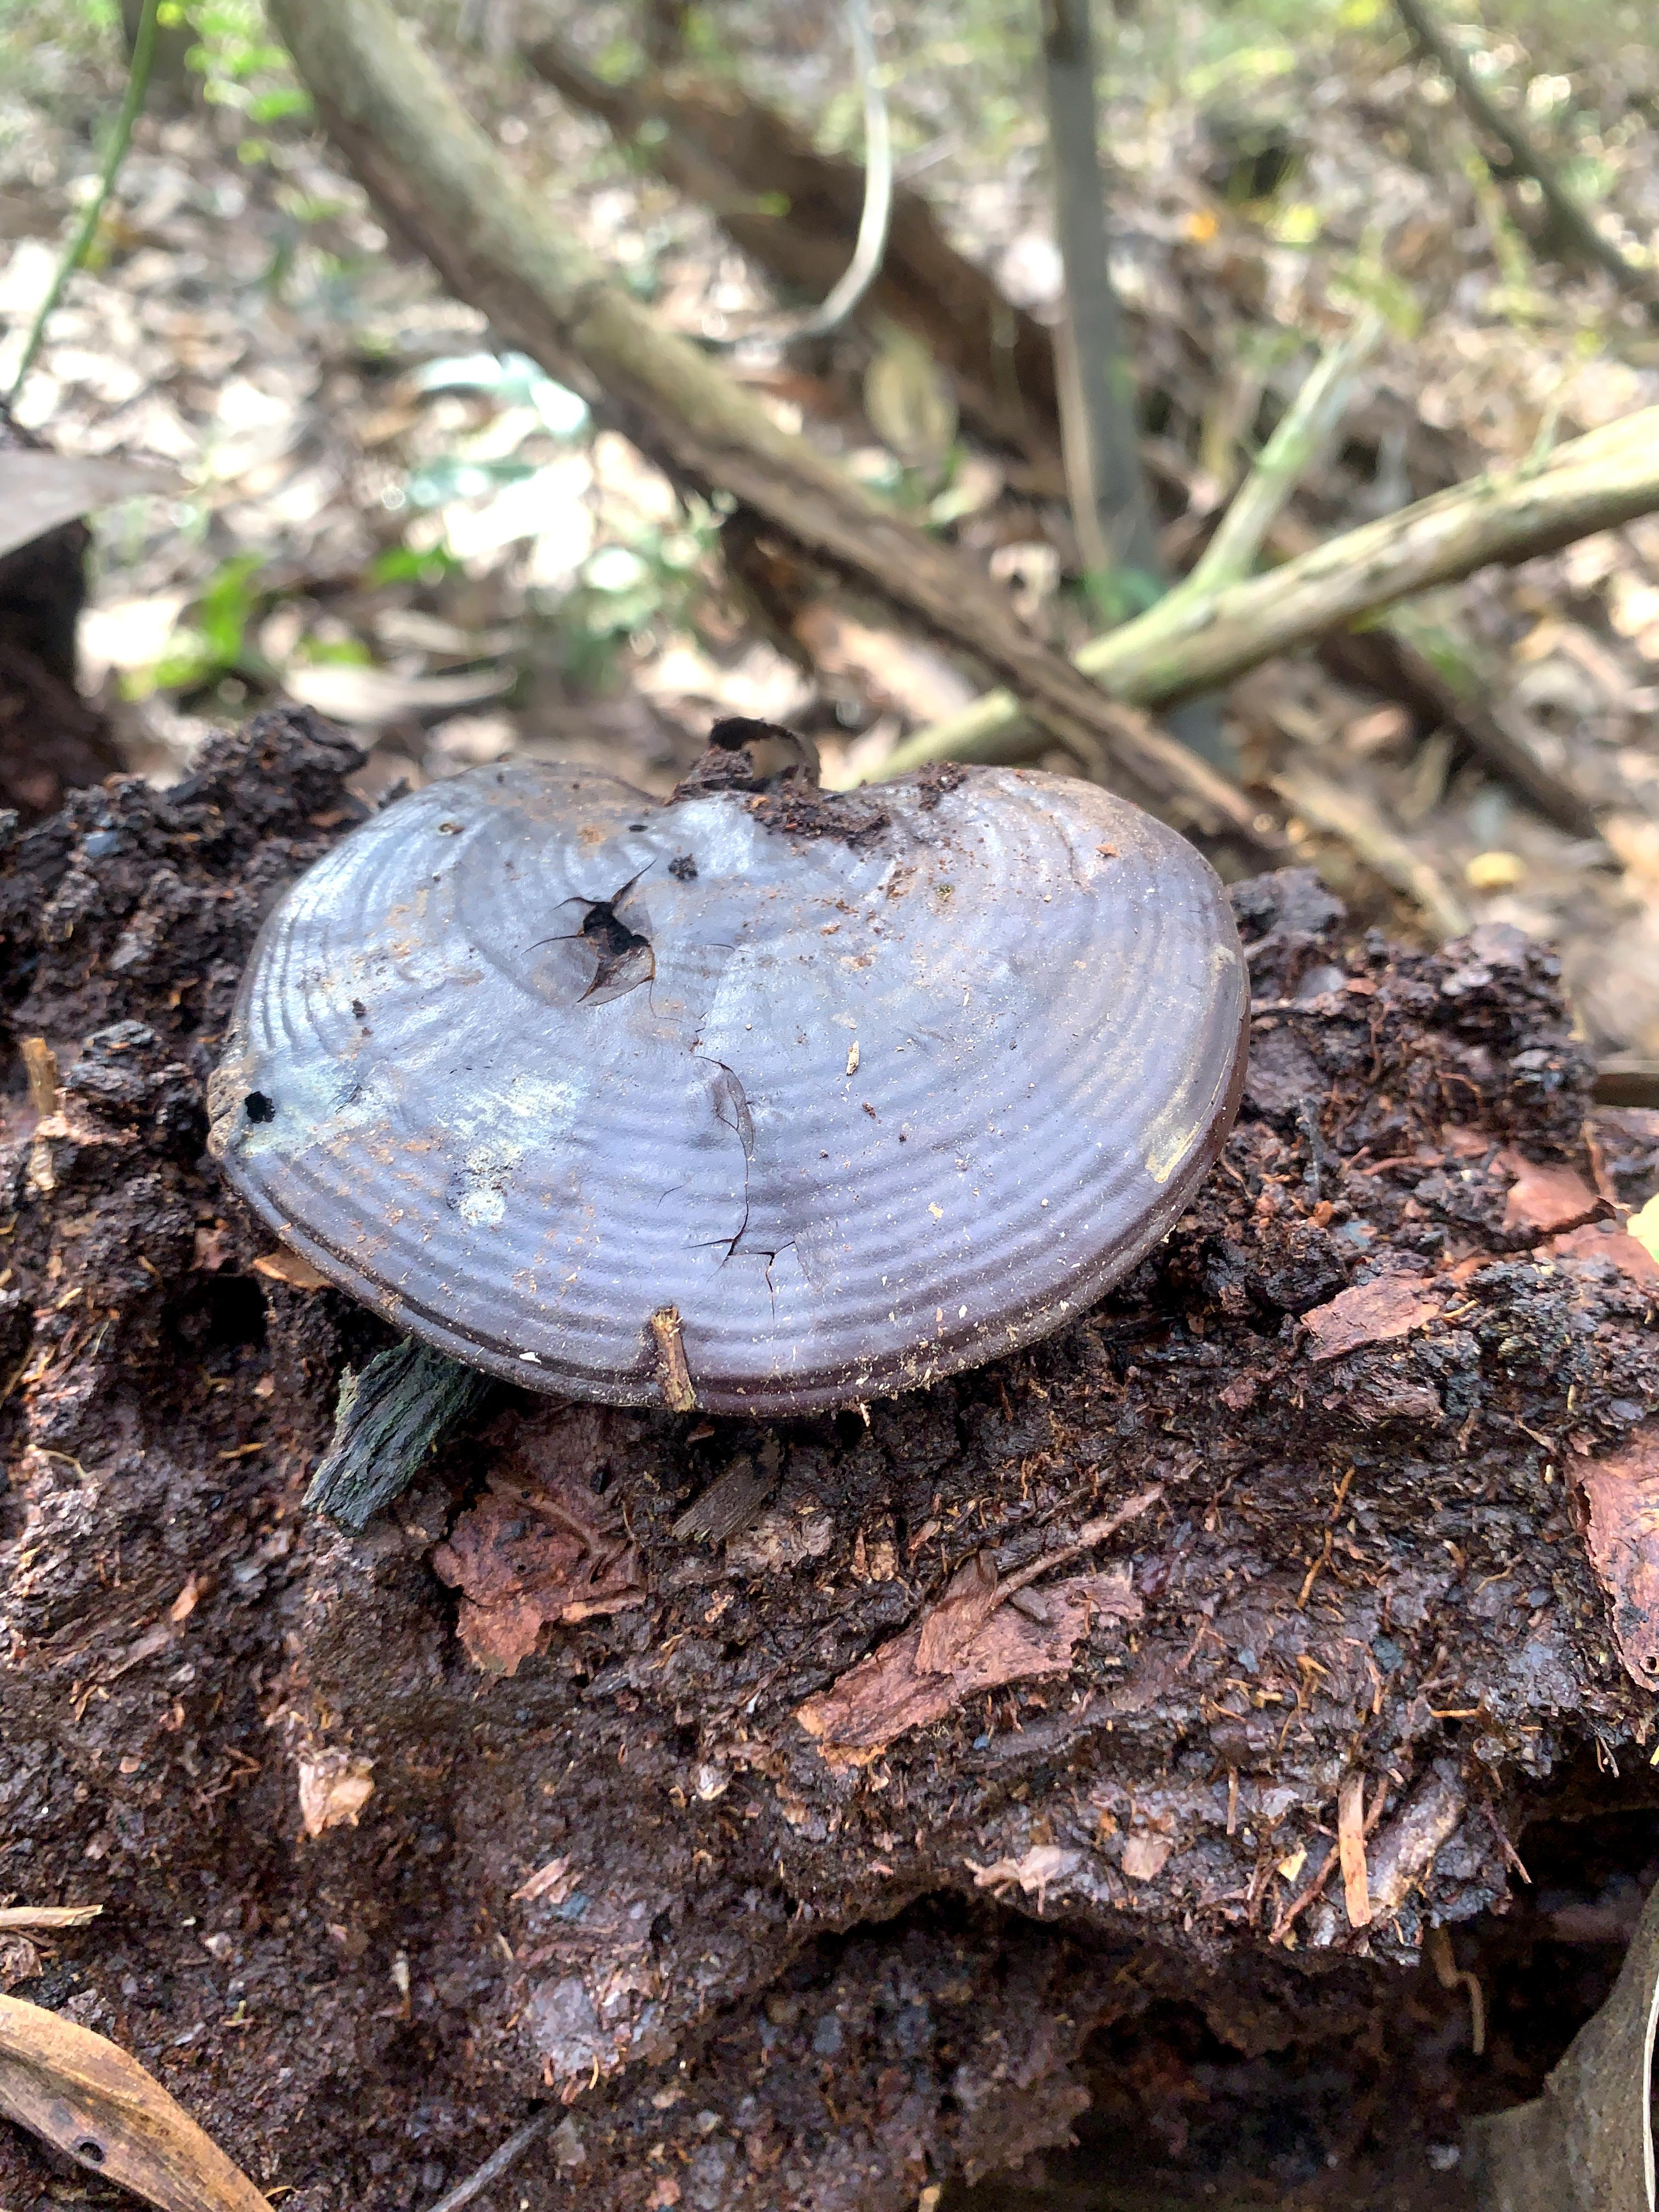Ganoderma - Fruit Body: (214, 709, 1263, 1453)
